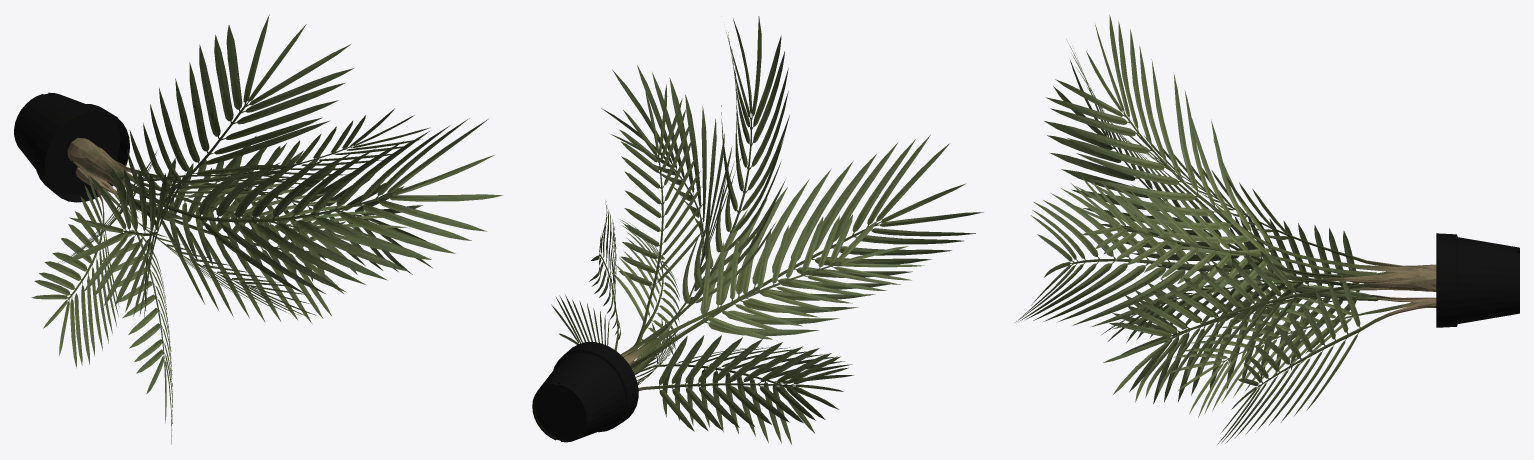
Rendered from Cây cọ cảnh.glb.
3 renders of one model, left to right at view 1: azimuth 30°, elevation 25°; view 2: azimuth 150°, elevation 25°; view 3: azimuth 270°, elevation 25°, orthographic. The views are drawn at different scales.
Parts seen in each view (by area): view 1: Object_4; view 2: Object_4; view 3: Object_4.
Boxes of the visible parts, x1,y1,x2,y2 form: Object_4: (14, 14, 502, 444); Object_4: (532, 16, 983, 444); Object_4: (1015, 15, 1519, 444).
Size of the model in its own units: 0.6316 by 0.6144 by 0.6802.
Materials: 1 (1 with a texture image).
